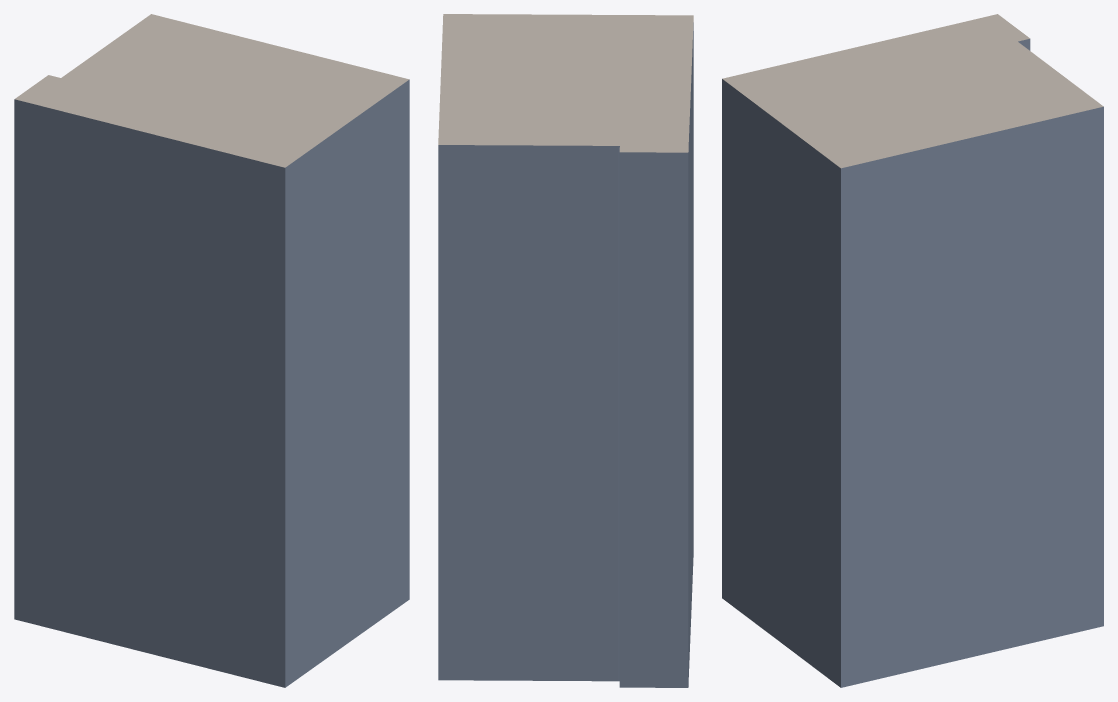
Rendered from nyc-1024683-0.glb.
3 renders of one model, left to right at view 1: azimuth 30°, elevation 25°; view 2: azimuth 150°, elevation 25°; view 3: azimuth 270°, elevation 25°, orthographic. The views are drawn at different scales.
Parts seen in each view (by area): view 1: nyc-1024683-0; view 2: nyc-1024683-0; view 3: nyc-1024683-0.
Boxes of the visible parts, x1,y1,x2,y2 form: nyc-1024683-0: (14, 14, 409, 687); nyc-1024683-0: (438, 14, 693, 687); nyc-1024683-0: (722, 14, 1103, 687).
Size of the model in its own units: 34.77 by 54.56 by 36.33.
